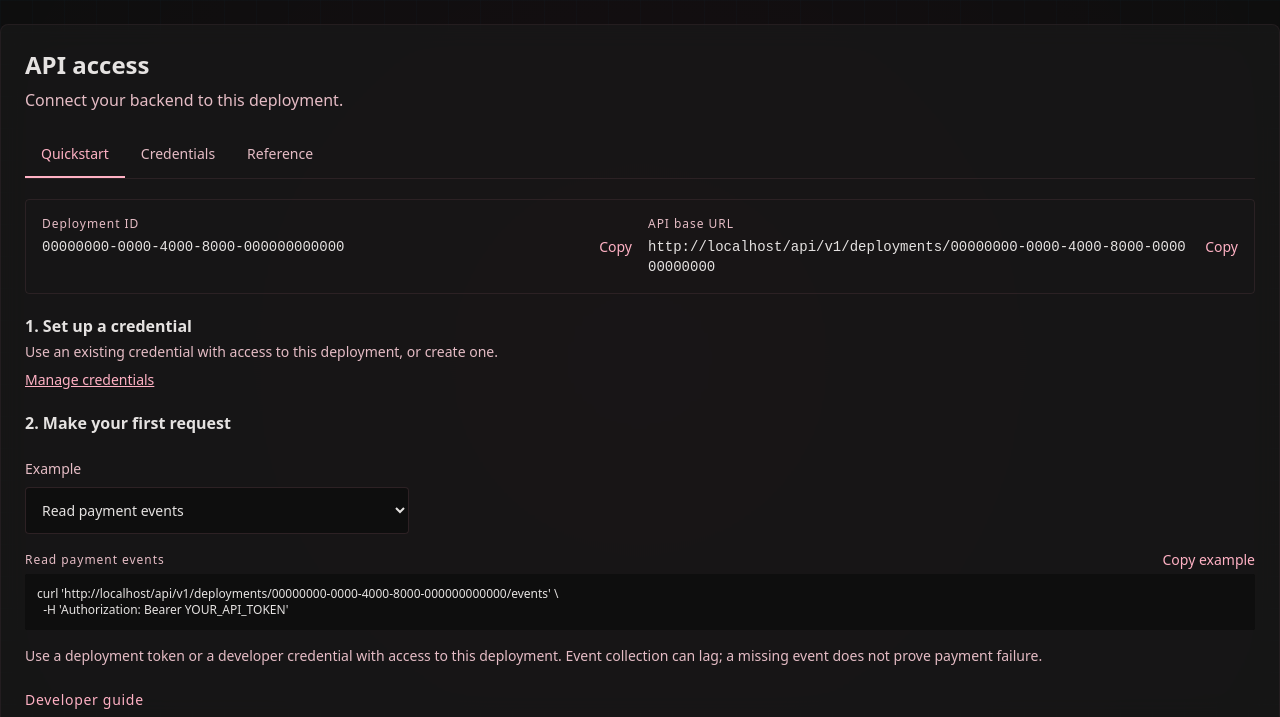
Test: deployment integration instructions › shows balance discovery and distinguishes contract funds from payment evidence
Click the tab "Reference": (280, 155) x1=231 y1=132 x2=329 y2=178
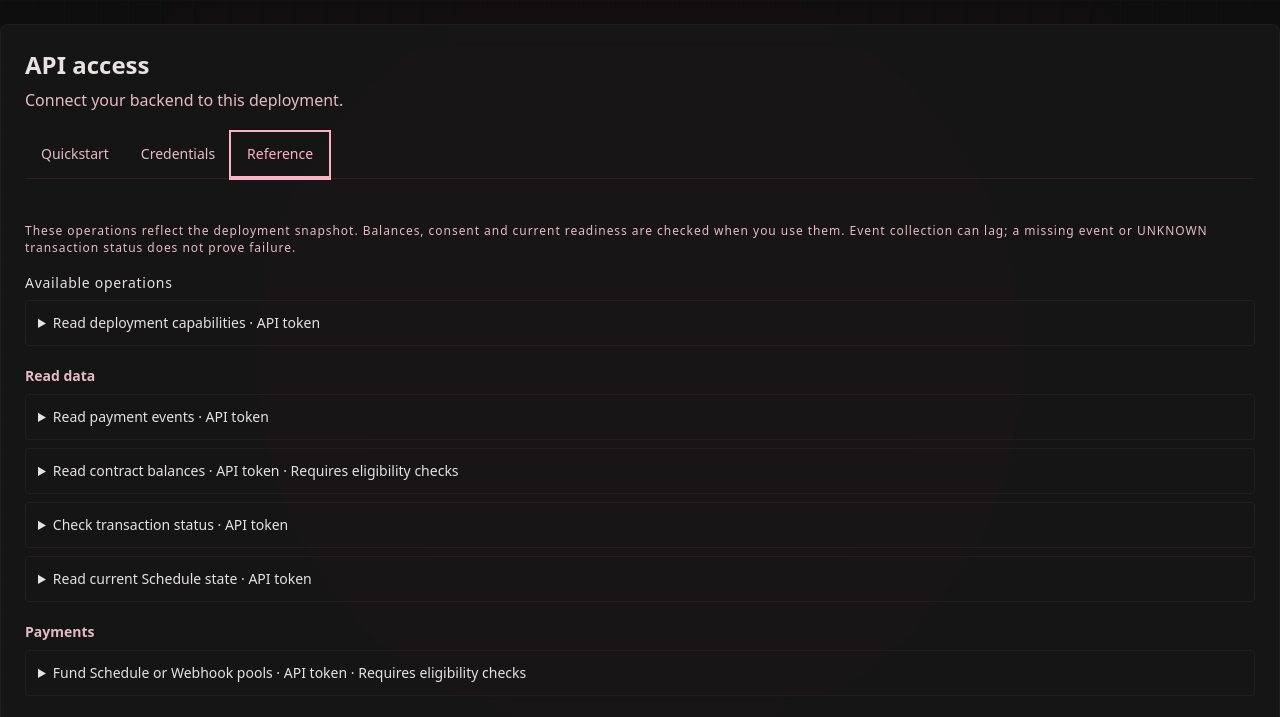
Check: the heading "Read contract balances" shows "Requires eligibility checks", box x1=53 y1=461 x2=458 y2=480
